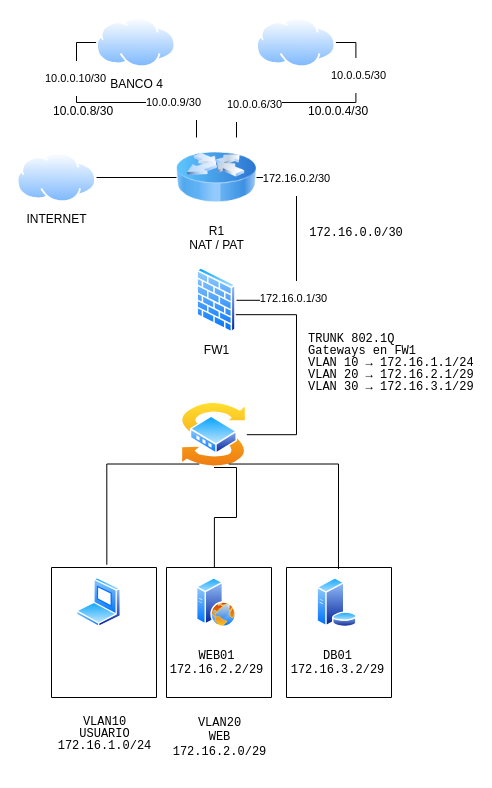
The diagram is 492 pixels wide and 788 high, and some of its shapes have lost their labels. Here are the shapes that lost their labels. From the top down, the box of each, then its label:
(256, 17, 335, 67): BANCO 2
(181, 401, 246, 467): SW1
(76, 577, 121, 627): PC-USR 172.16.1.2/24
(286, 566, 392, 698): VLAN30 BASE DE DATOS 172.16.3.0/29
